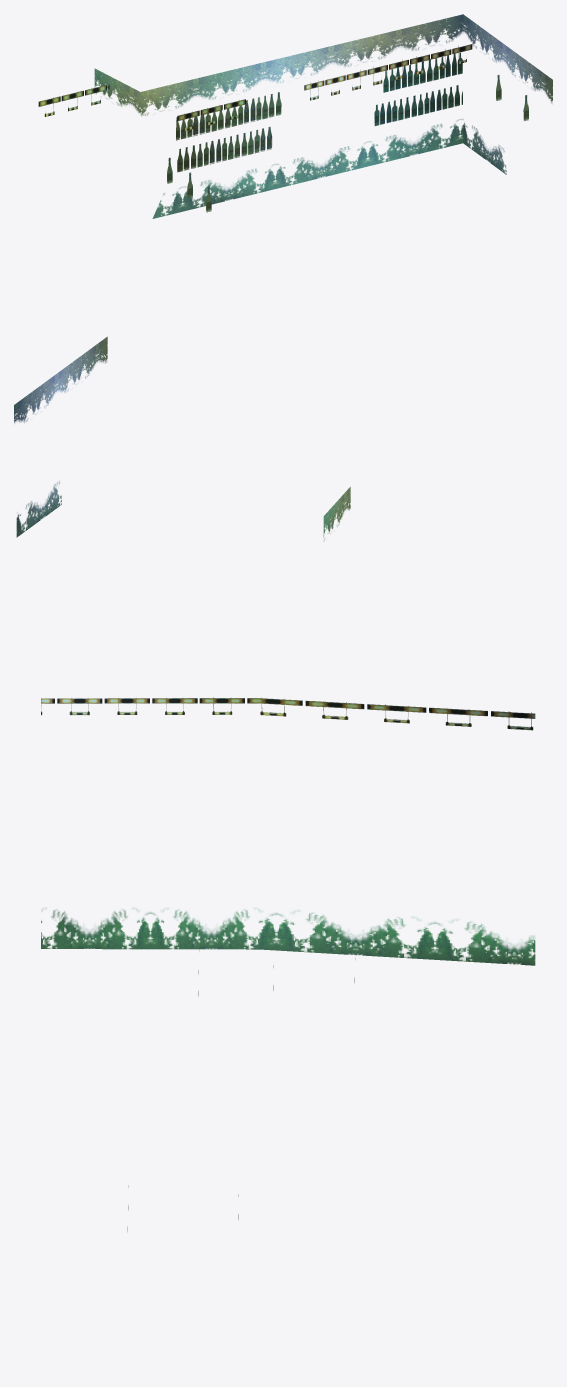
The model's file is bar3.glb.
The picture shows the model from 3 angles, top to bottom: view 1: azimuth 30°, elevation 25°; view 2: azimuth 150°, elevation 25°; view 3: azimuth 270°, elevation 25°; orthographic projection. The views are drawn at different scales.
Visible parts, largest first — view 1: Plane2; view 2: Plane2; view 3: Plane2.
Part boxes in pixels (x1,y1,x2,y2): Plane2: (38,14,552,218); Plane2: (14,336,350,541); Plane2: (41,697,535,1231).
Size of what is drawn, in the model's own units: 13.84 by 3.97 by 7.02.
Materials: 4 (4 with a texture image).
